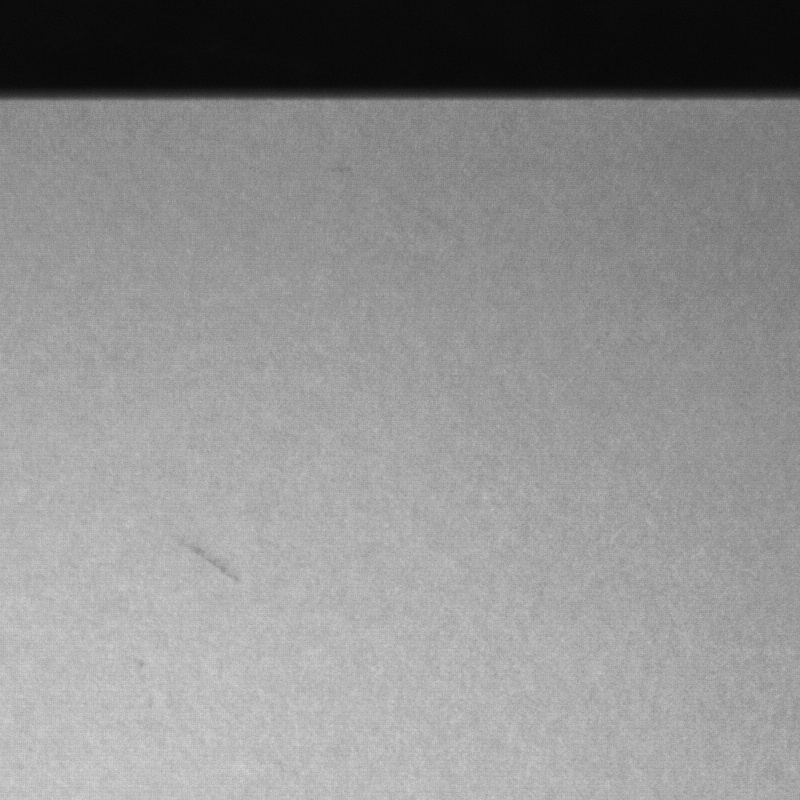defect: (186, 541, 246, 588)
